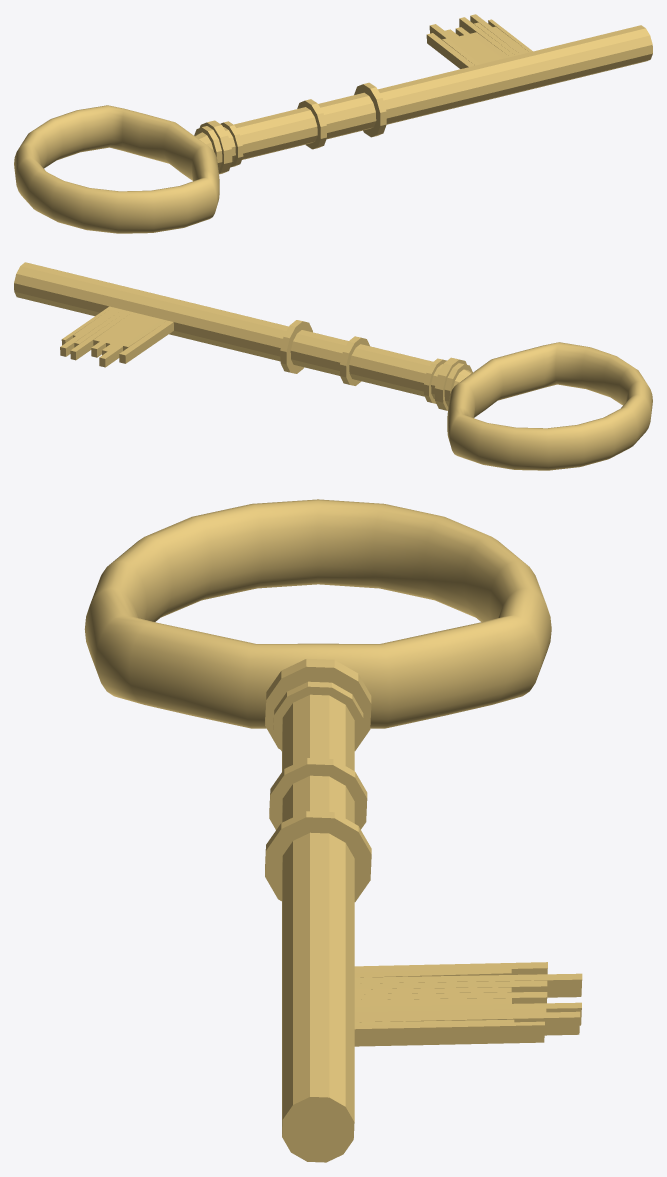
The model's file is Key.fbx.
The picture shows the model from 3 angles, top to bottom: view 1: azimuth 30°, elevation 25°; view 2: azimuth 150°, elevation 25°; view 3: azimuth 270°, elevation 25°; orthographic projection. The views are drawn at different scales.
Parts seen in each view (by area): view 1: pCylinder2; view 2: pCylinder2; view 3: pCylinder2.
Part boxes in pixels (box(x1,y1,x2,y2)): pCylinder2: box(14, 14, 652, 233); pCylinder2: box(14, 262, 652, 470); pCylinder2: box(84, 499, 582, 1162).
Size of the model in its own units: 3.38 by 0.254 by 1.18.
